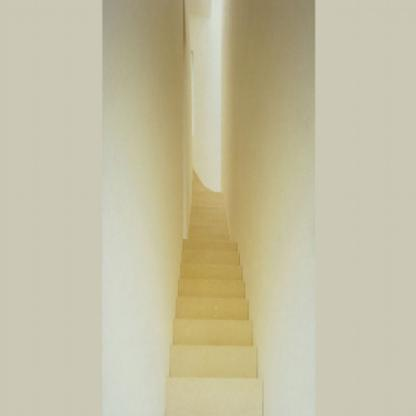stairs: (178, 311, 255, 416)
